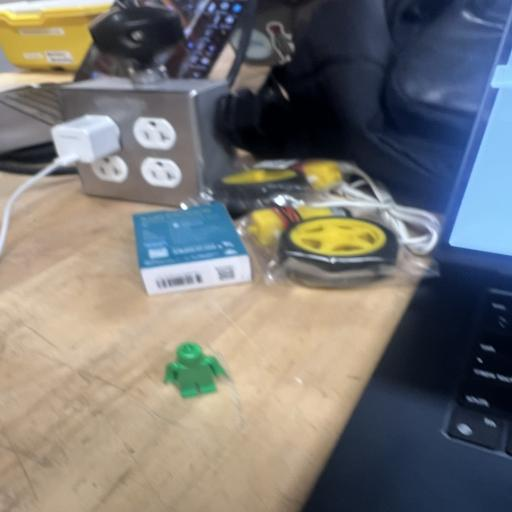green-lego-minifigure-detector: (164, 342, 227, 398)
